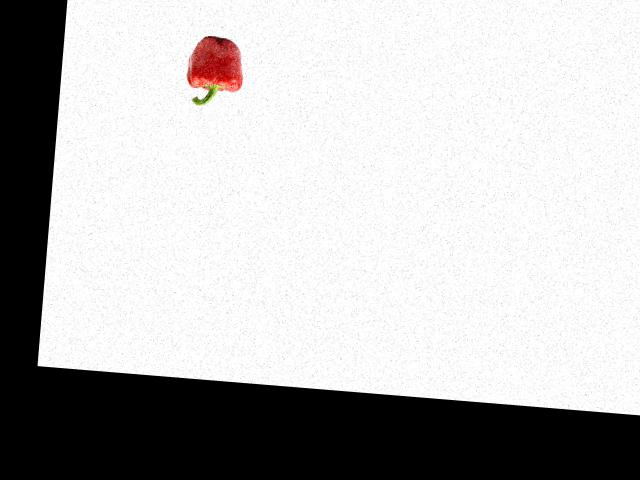bell_pepper: (180, 31, 249, 110)
